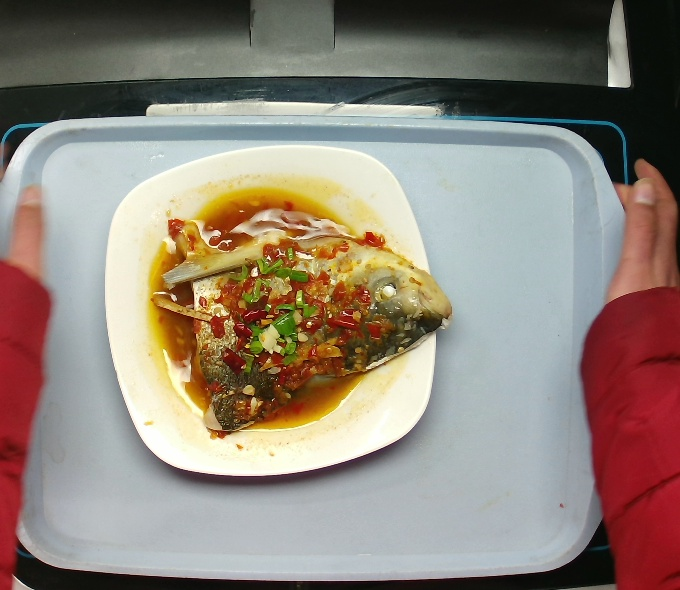wcq-DuoJiaoYuTou: (146, 171, 450, 448)
